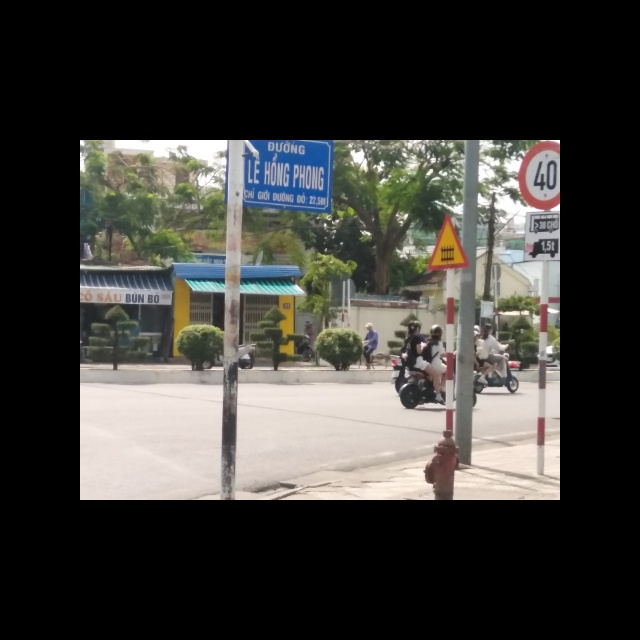Giao nhau với đường sắt có rào chắn: (426, 211, 469, 270)
Tốc độ tối đa cho phép 40km/h: (516, 140, 559, 212)
